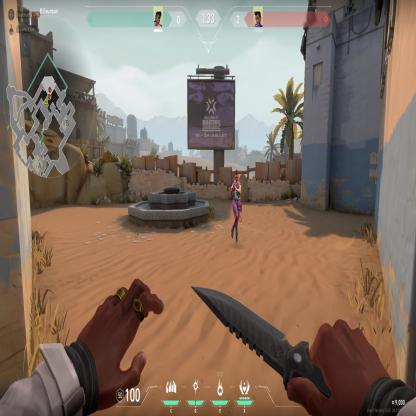enemy: (229, 168, 243, 244)
